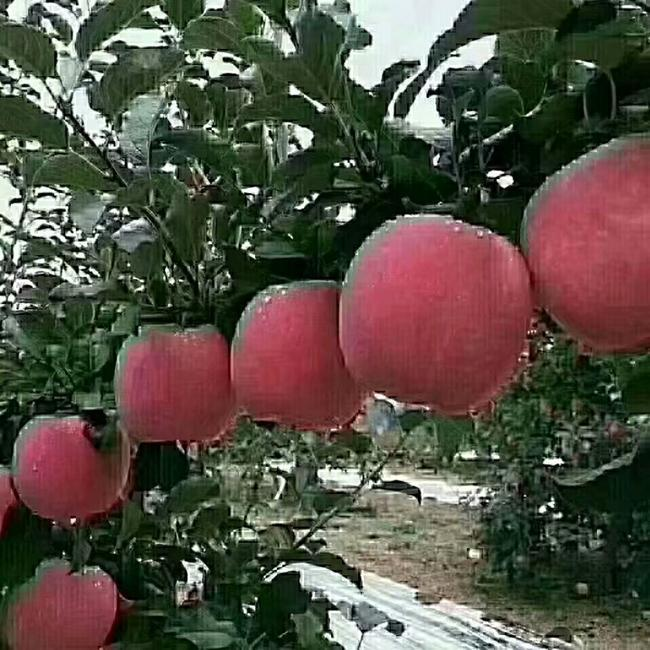apple: (338, 213, 544, 415), (519, 129, 646, 351), (231, 279, 367, 432), (115, 318, 229, 441), (13, 409, 133, 517)
